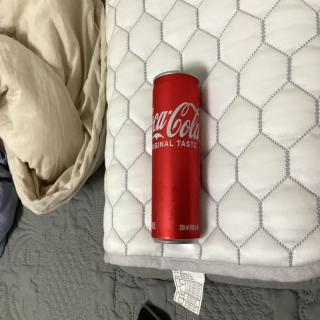cocacola: (145, 64, 208, 247)
